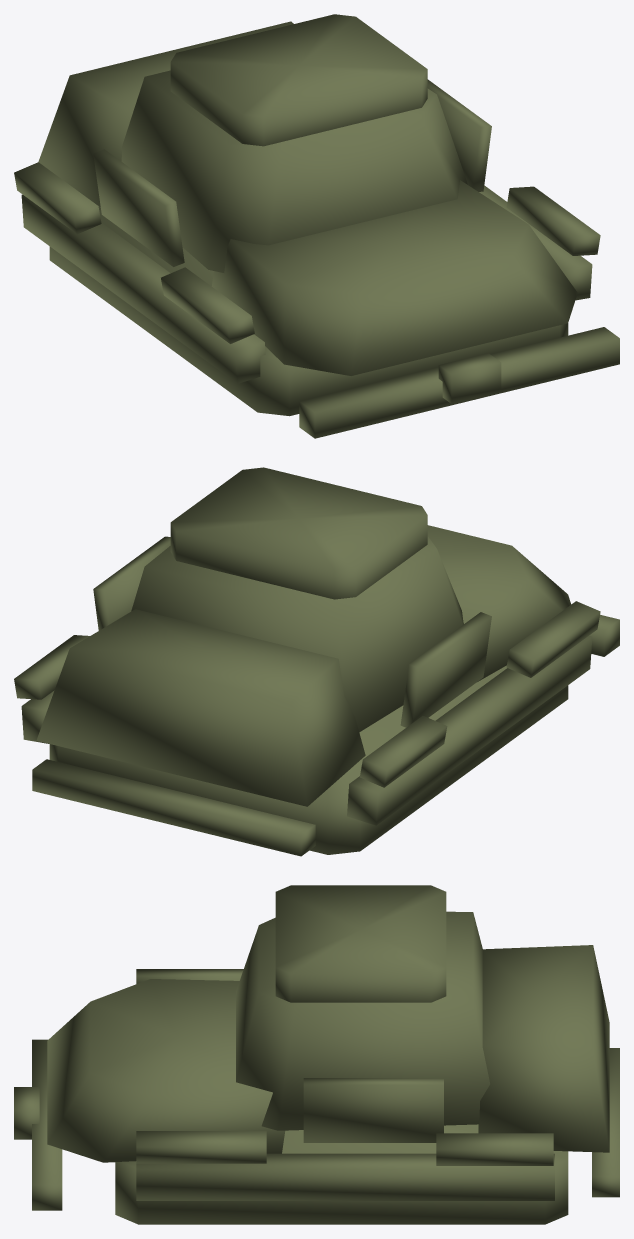
The model's file is scout_rover_hull.obj.
3 views of the same model, one above another, from view 1: azimuth 30°, elevation 25°; view 2: azimuth 150°, elevation 25°; view 3: azimuth 270°, elevation 25° (orthographic). The views are drawn at different scales.
Visible parts, largest first — view 1: scout_rover_hull; view 2: scout_rover_hull; view 3: scout_rover_hull.
Boxes of the visible parts, x1=… form: scout_rover_hull: x1=14, y1=14, x2=619, y2=438; scout_rover_hull: x1=14, y1=467, x2=619, y2=856; scout_rover_hull: x1=14, y1=885, x2=619, y2=1224.
Bounding box in the file's own units: 3.3 × 1.91 × 4.75.
